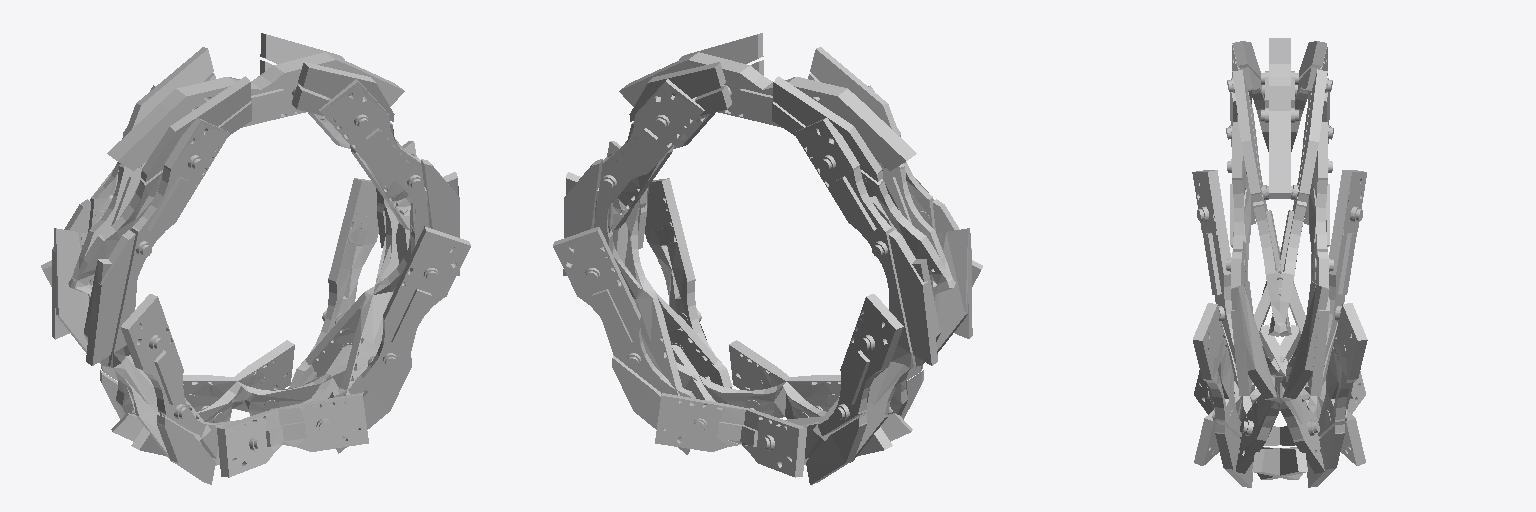
File: Jump Gate.obj
The picture shows the model from 3 angles: view 1: azimuth 30°, elevation 25°; view 2: azimuth 150°, elevation 25°; view 3: azimuth 270°, elevation 25°; orthographic projection.
Visible parts, largest first — view 1: Gate_Plane.003, Parts_Plane.004; view 2: Gate_Plane.003, Parts_Plane.004; view 3: Gate_Plane.003, Parts_Plane.004.
Part boxes in pixels (x1,y1,x2,y2): Gate_Plane.003: (41,33,470,484); Parts_Plane.004: (94,85,439,450); Gate_Plane.003: (553,33,982,484); Parts_Plane.004: (584,85,929,450); Gate_Plane.003: (1192,38,1367,487); Parts_Plane.004: (1197,71,1362,435).
Size of the model in its own units: 23.47 by 24.19 by 9.59.